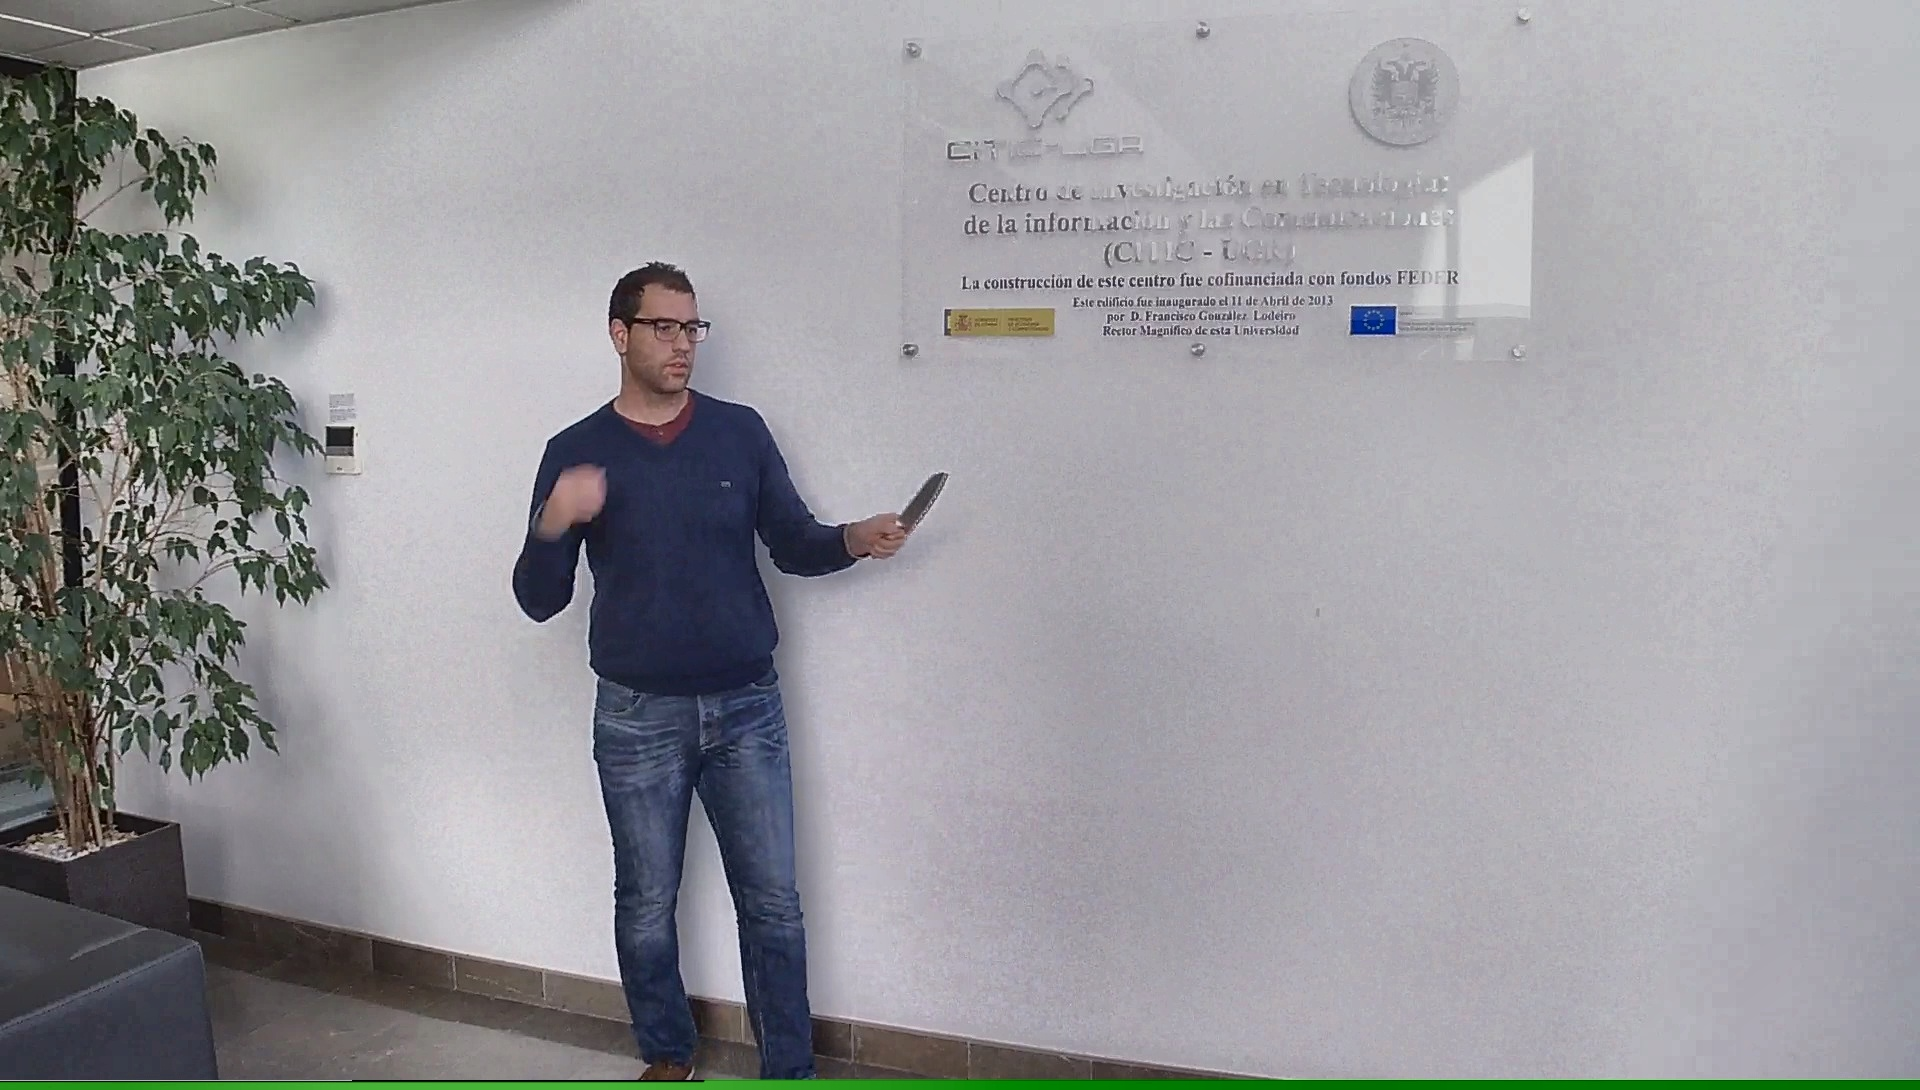knife: (872, 467, 957, 564)
